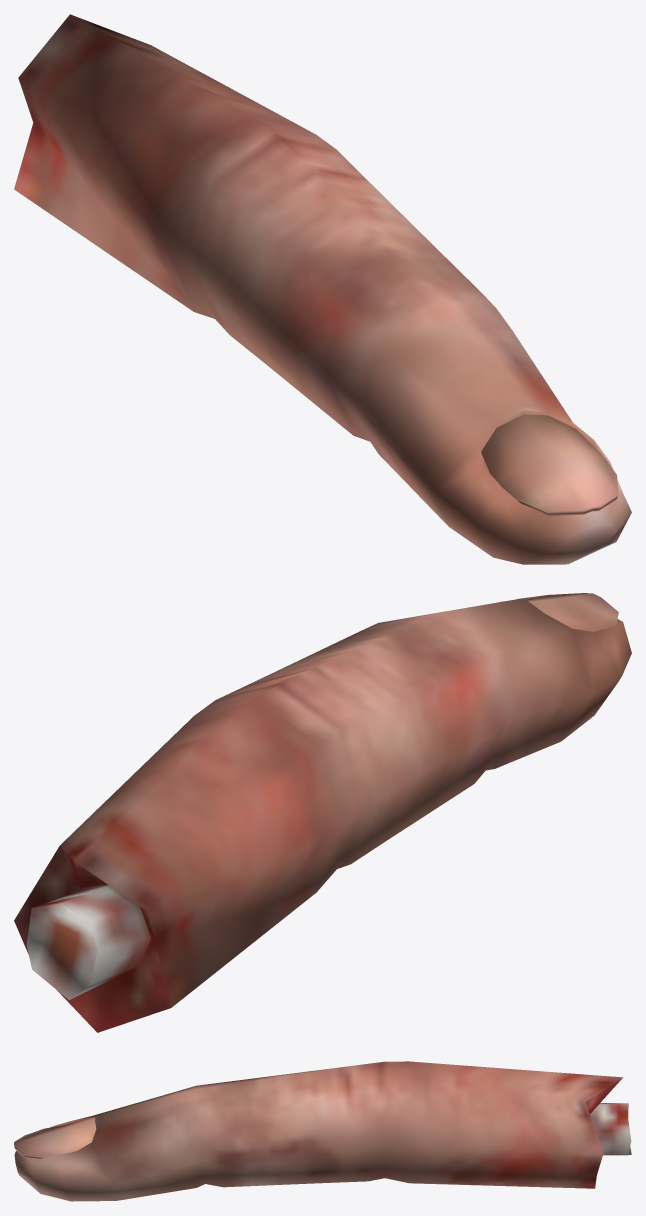
Rendered from finger.fbx.
The picture shows the model from 3 angles, top to bottom: view 1: azimuth 30°, elevation 25°; view 2: azimuth 150°, elevation 25°; view 3: azimuth 270°, elevation 25°; orthographic projection. The views are drawn at different scales.
Parts seen in each view (by area): view 1: finger; view 2: finger; view 3: finger.
Boxes of the visible parts, x1,y1,x2,y2 form: finger: [14, 14, 631, 564]; finger: [14, 593, 631, 1032]; finger: [14, 1061, 631, 1201].
Size of the model in its own units: 3.07 by 3.9 by 16.17.
